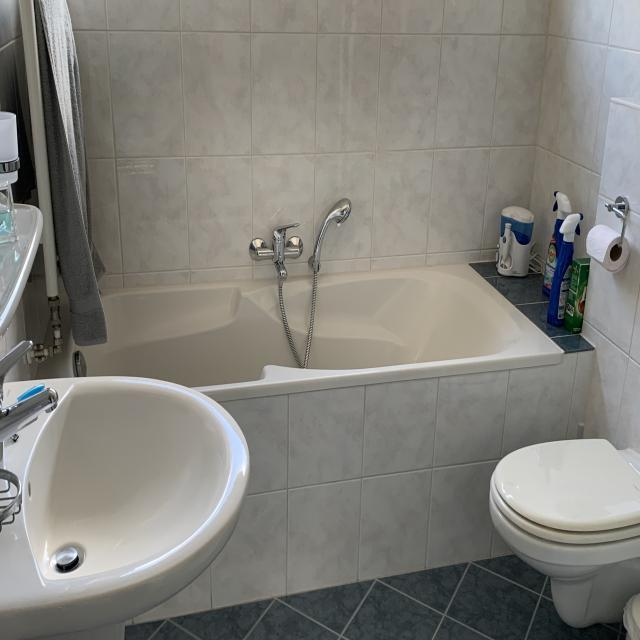bath: (34, 220, 564, 441)
designradiator: (18, 0, 64, 365)
toilet: (489, 437, 640, 628)
wastafel: (0, 338, 250, 640)
